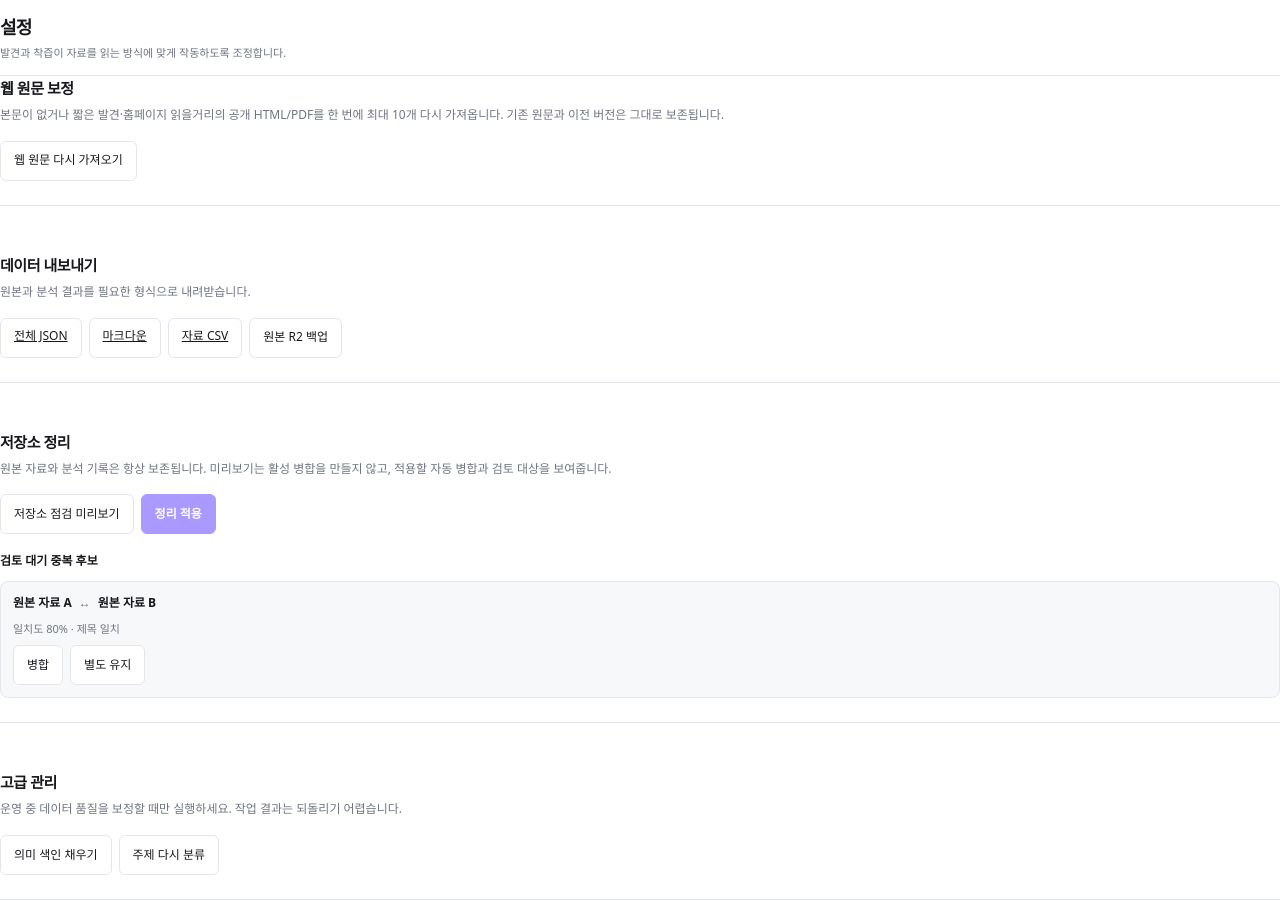
Test case: SettingsView repository maintenance › shows preview counts and enables apply after a repository preview
(page scrolled)
Click the button "저장소 점검 미리보기": [67, 514] box x1=0 y1=494 x2=134 y2=534
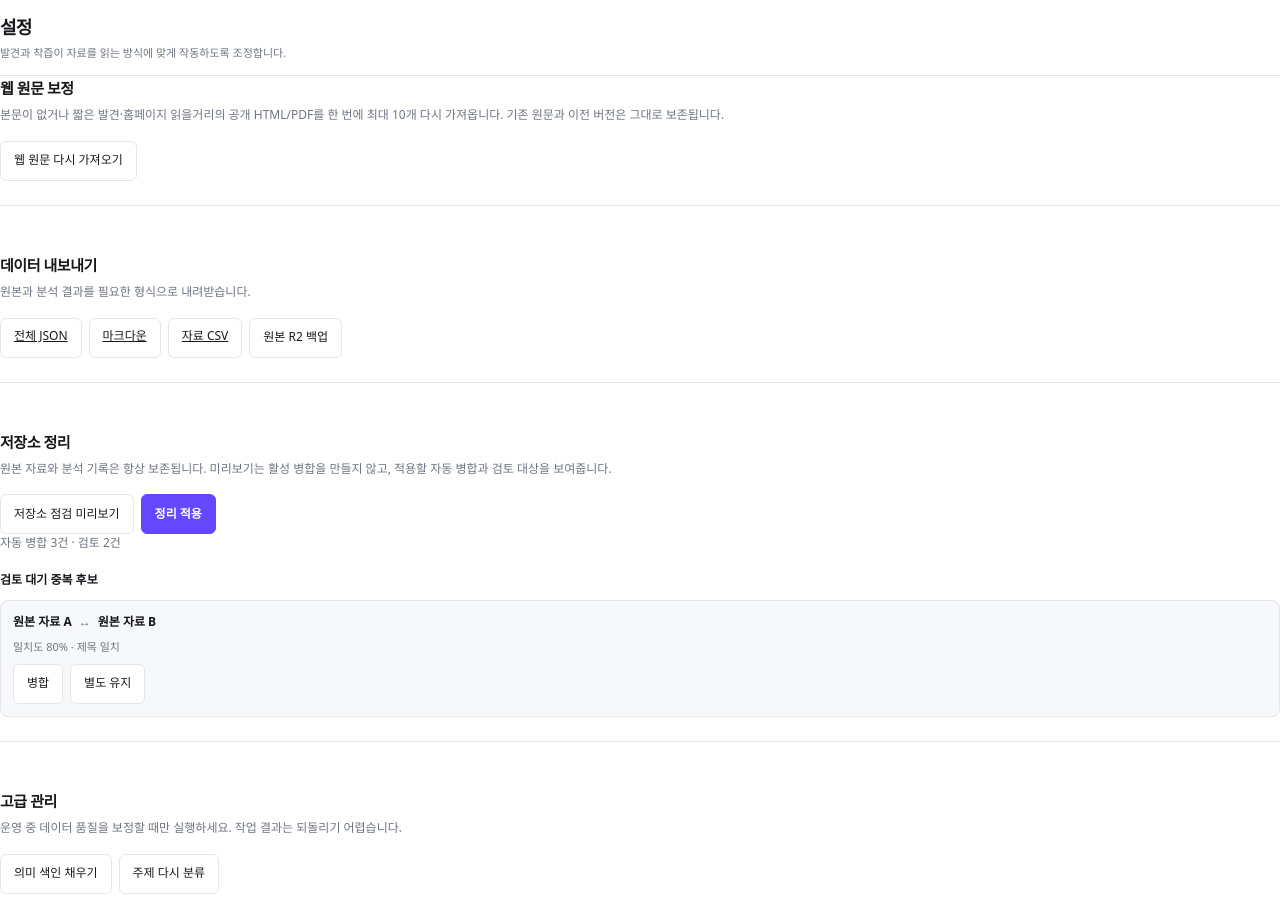
Expected: the text "자동 병합 3건 · 검토 2건" is shown, x1=0 y1=534 x2=121 y2=551
Expected: the button "정리 적용" is enabled, x1=141 y1=494 x2=216 y2=534
